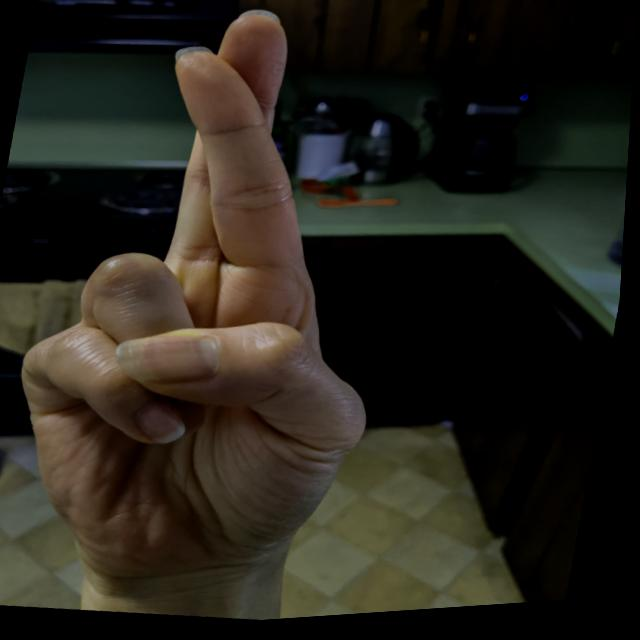R: (0, 0, 450, 623)
